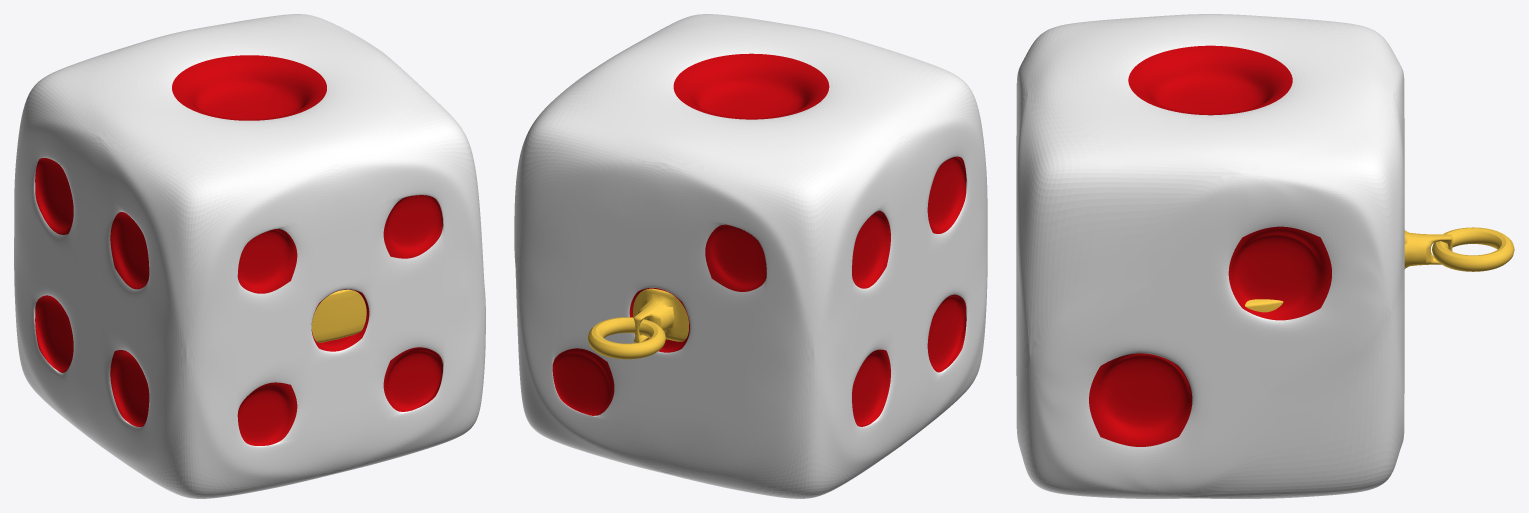
3 views of the same model, side by side, from view 1: azimuth 30°, elevation 25°; view 2: azimuth 150°, elevation 25°; view 3: azimuth 270°, elevation 25° (orthographic). The views are drawn at different scales.
Parts seen in each view (by area): view 1: 骰子, 柱体; view 2: 骰子, 环体, 柱体; view 3: 骰子, 环体, 柱体.
Part boxes in pixels (left/top/right/bottom): 骰子: left=14, top=14, right=485, bottom=498; 柱体: left=311, top=289, right=366, bottom=342; 骰子: left=514, top=14, right=987, bottom=498; 环体: left=587, top=317, right=665, bottom=359; 柱体: left=633, top=288, right=688, bottom=342; 骰子: left=1016, top=14, right=1404, bottom=498; 环体: left=1432, top=227, right=1514, bottom=271; 柱体: left=1245, top=230, right=1452, bottom=312.
Bounding box in the file's own units: 200 × 201 × 257.
